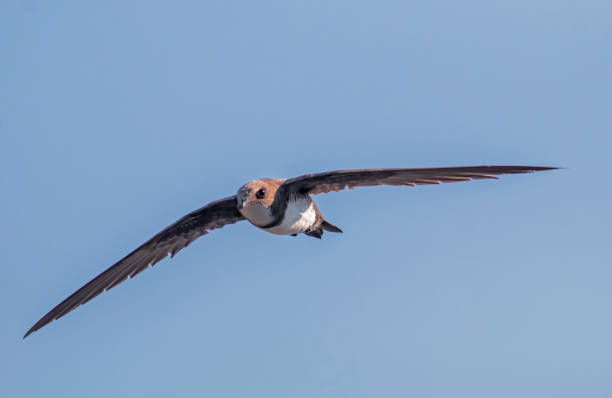Bird: (18, 160, 570, 340)
